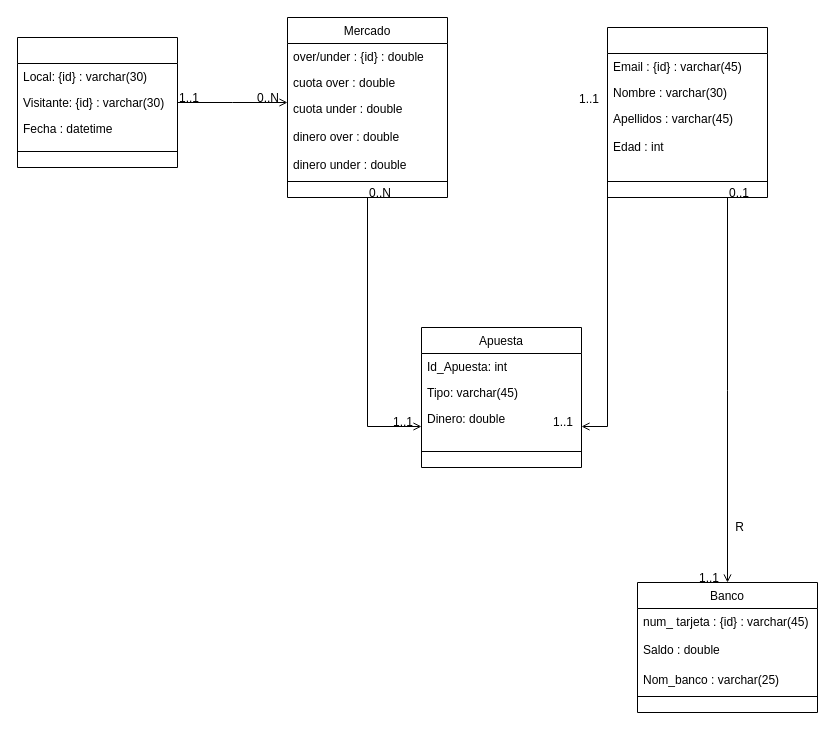
Image size: 835x730. Some labels were removed from this diagram. Each missing label, with the box of its shape:
Evento: (16, 36, 178, 168)
Usuario: (606, 26, 768, 198)
